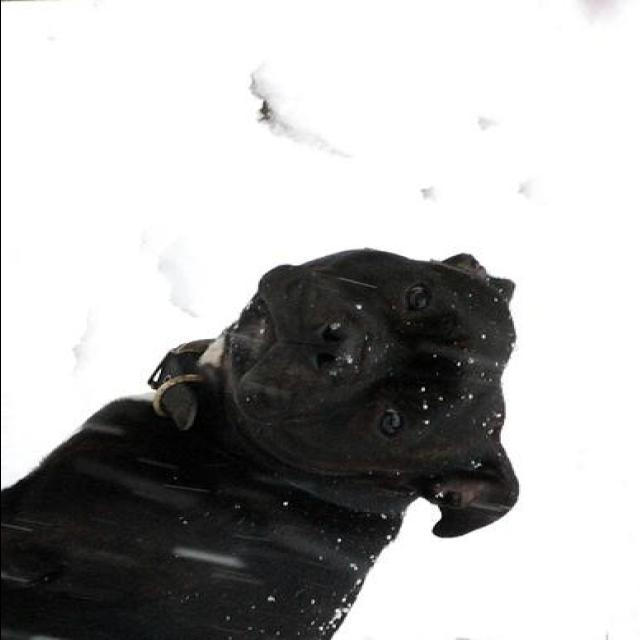staffordshire_bullterrier: (5, 250, 526, 638)
